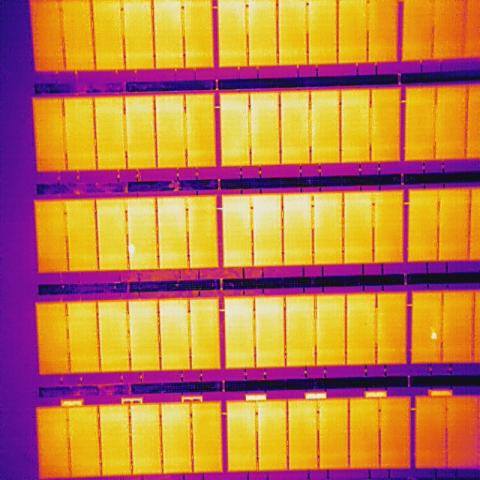fault: (128, 242, 136, 255), (430, 331, 438, 341)
